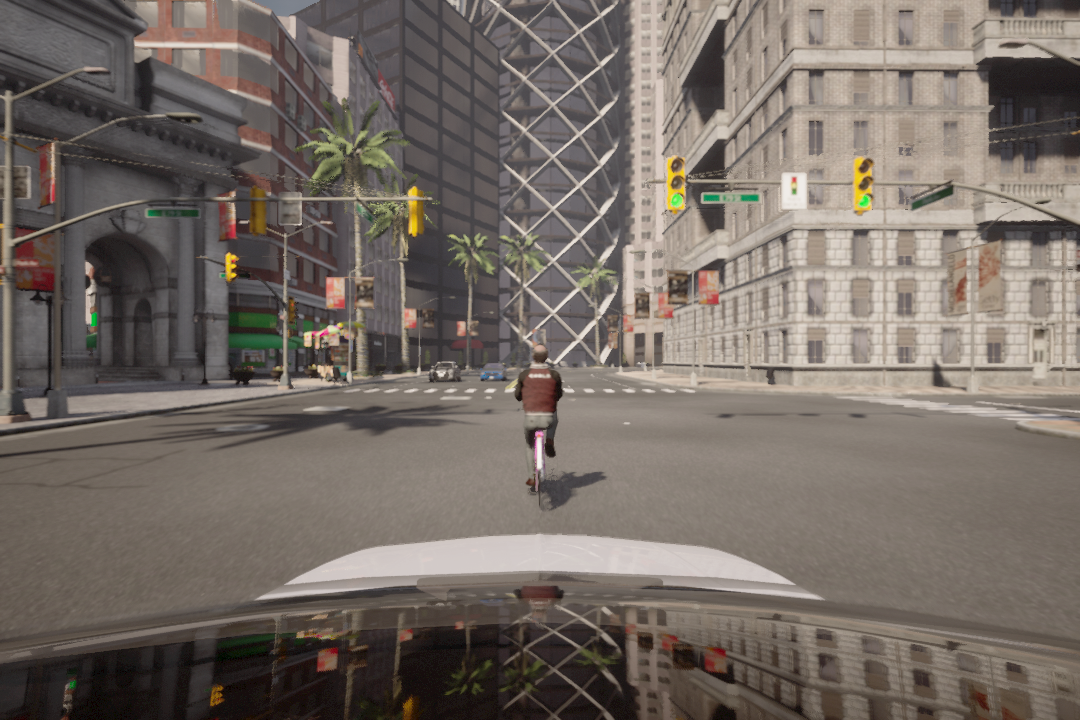TrafficLight: (664, 155, 686, 214), (854, 156, 876, 215)
walkside: (335, 384, 700, 398)
